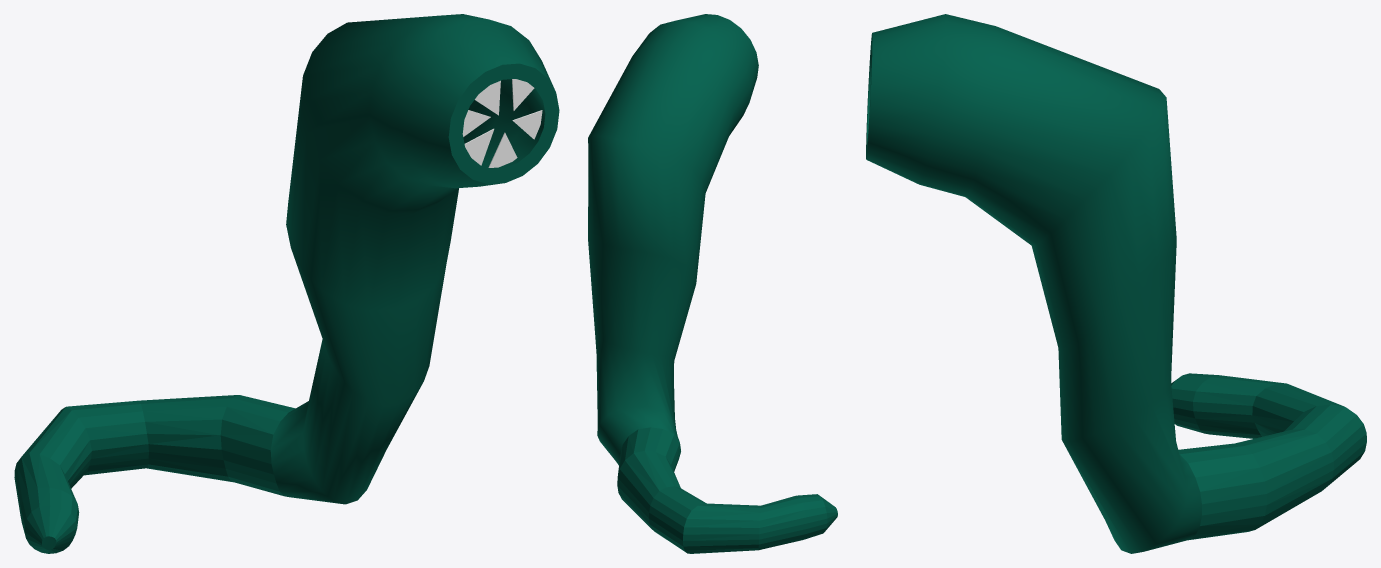
File: Monster_3_body.FBX
The picture shows the model from 3 angles, left to right: view 1: azimuth 30°, elevation 25°; view 2: azimuth 150°, elevation 25°; view 3: azimuth 270°, elevation 25°; orthographic projection. The views are drawn at different scales.
Parts seen in each view (by area): view 1: Tube001; view 2: Tube001; view 3: Tube001.
Boxes of the visible parts, x1=… form: Tube001: x1=14, y1=14, x2=559, y2=553; Tube001: x1=588, y1=14, x2=837, y2=553; Tube001: x1=866, y1=14, x2=1366, y2=553.
Bounding box in the file's own units: 42.18 × 56.76 × 46.88.
